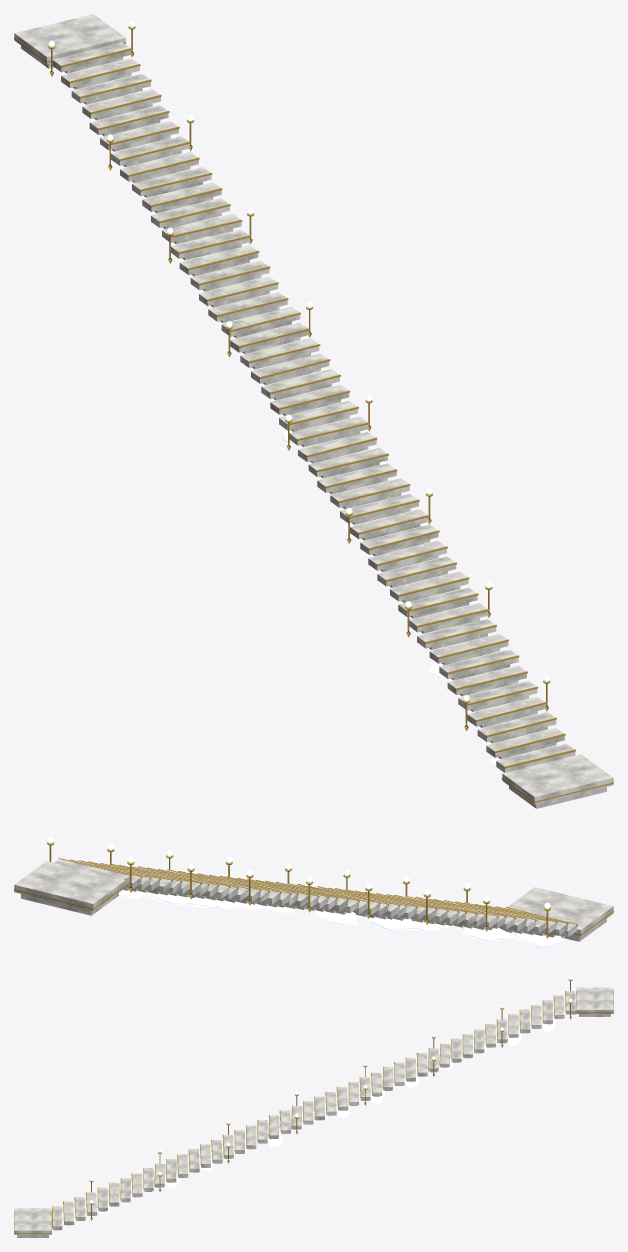
The model's file is ascension_stair.glb.
The picture shows the model from 3 angles, top to bottom: view 1: azimuth 30°, elevation 25°; view 2: azimuth 150°, elevation 25°; view 3: azimuth 270°, elevation 25°; orthographic projection. The views are drawn at different scales.
Parts seen in each view (by area): view 1: StairSlabs, StairGold, StairClouds; view 2: StairSlabs, StairGold, StairClouds, StairLamps; view 3: StairSlabs, StairGold, StairClouds.
Boxes of the visible parts, x1,y1,x2,y2 form: StairSlabs: [14, 14, 613, 808]; StairGold: [14, 26, 613, 802]; StairClouds: [107, 87, 537, 766]; StairSlabs: [14, 859, 613, 941]; StairGold: [14, 842, 613, 938]; StairClouds: [118, 890, 563, 947]; StairLamps: [47, 837, 550, 908]; StairSlabs: [14, 987, 613, 1237]; StairGold: [14, 979, 613, 1233]; StairClouds: [62, 1020, 555, 1223].
Size of what is drawn, in the model's own units: 6.28 by 28.33 by 64.04.
4 materials, 2 textured.
